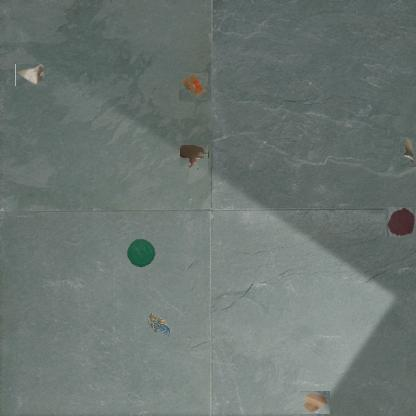dirty: (125, 237, 157, 269), (179, 72, 208, 102), (145, 310, 171, 338), (300, 392, 330, 416), (15, 64, 46, 86), (400, 137, 416, 167)
liquid: (385, 208, 415, 238), (180, 146, 208, 170)
